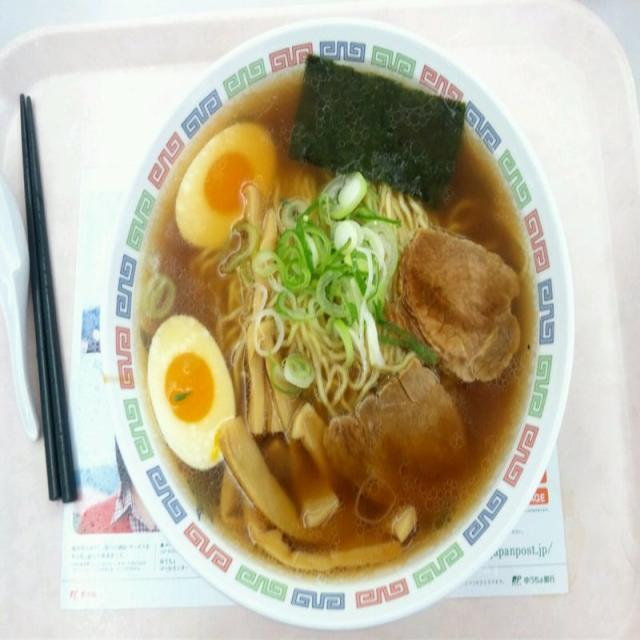面条主食: (93, 11, 576, 640)
